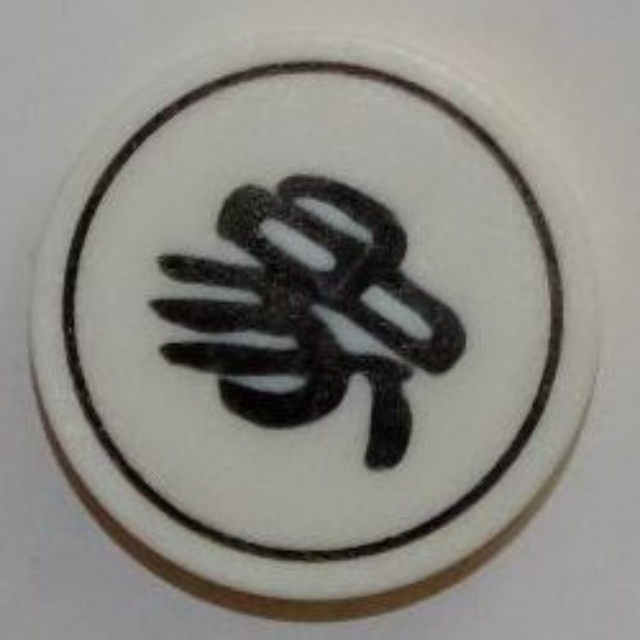black_bo: (32, 34, 613, 619)
